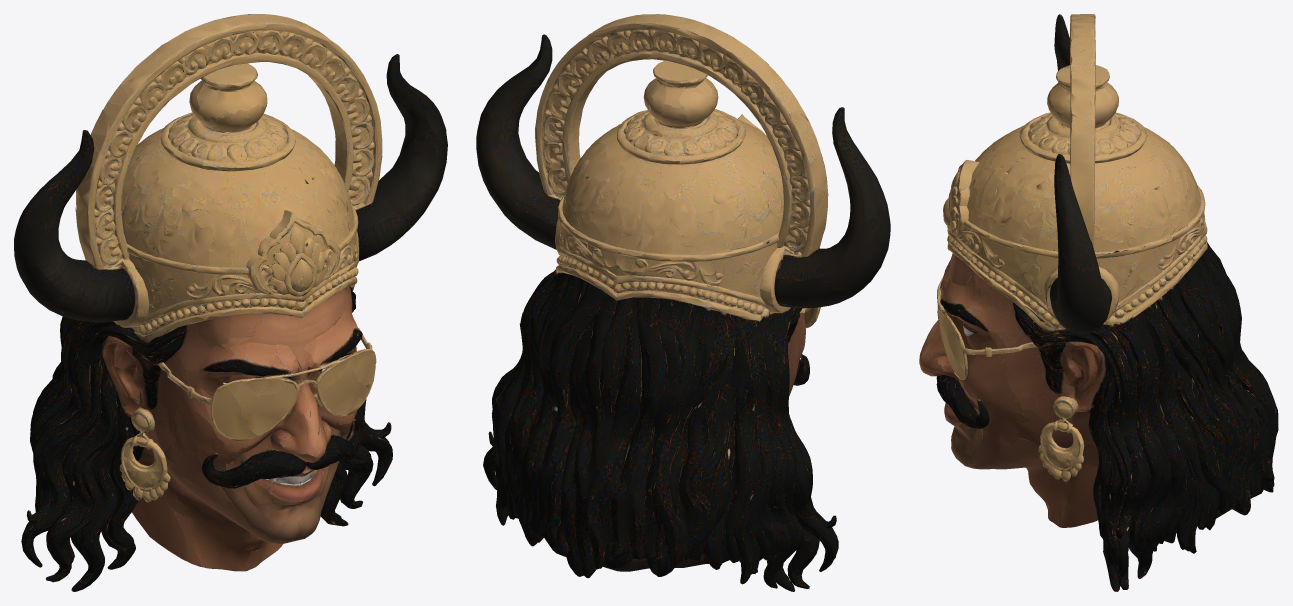
File: head-closer-web.glb
3 renders of one model, left to right at view 1: azimuth 30°, elevation 25°; view 2: azimuth 150°, elevation 25°; view 3: azimuth 270°, elevation 25°, orthographic. The views are drawn at different scales.
Visible parts, largest first — view 1: mesh_node; view 2: mesh_node; view 3: mesh_node.
Part boxes in pixels (x1,y1,x2,y2): mesh_node: [14, 14, 447, 591]; mesh_node: [476, 14, 890, 591]; mesh_node: [919, 14, 1278, 591].
Bounding box in the file's own units: 1.54 × 1.9 × 1.23.
1 material, 1 textured.
